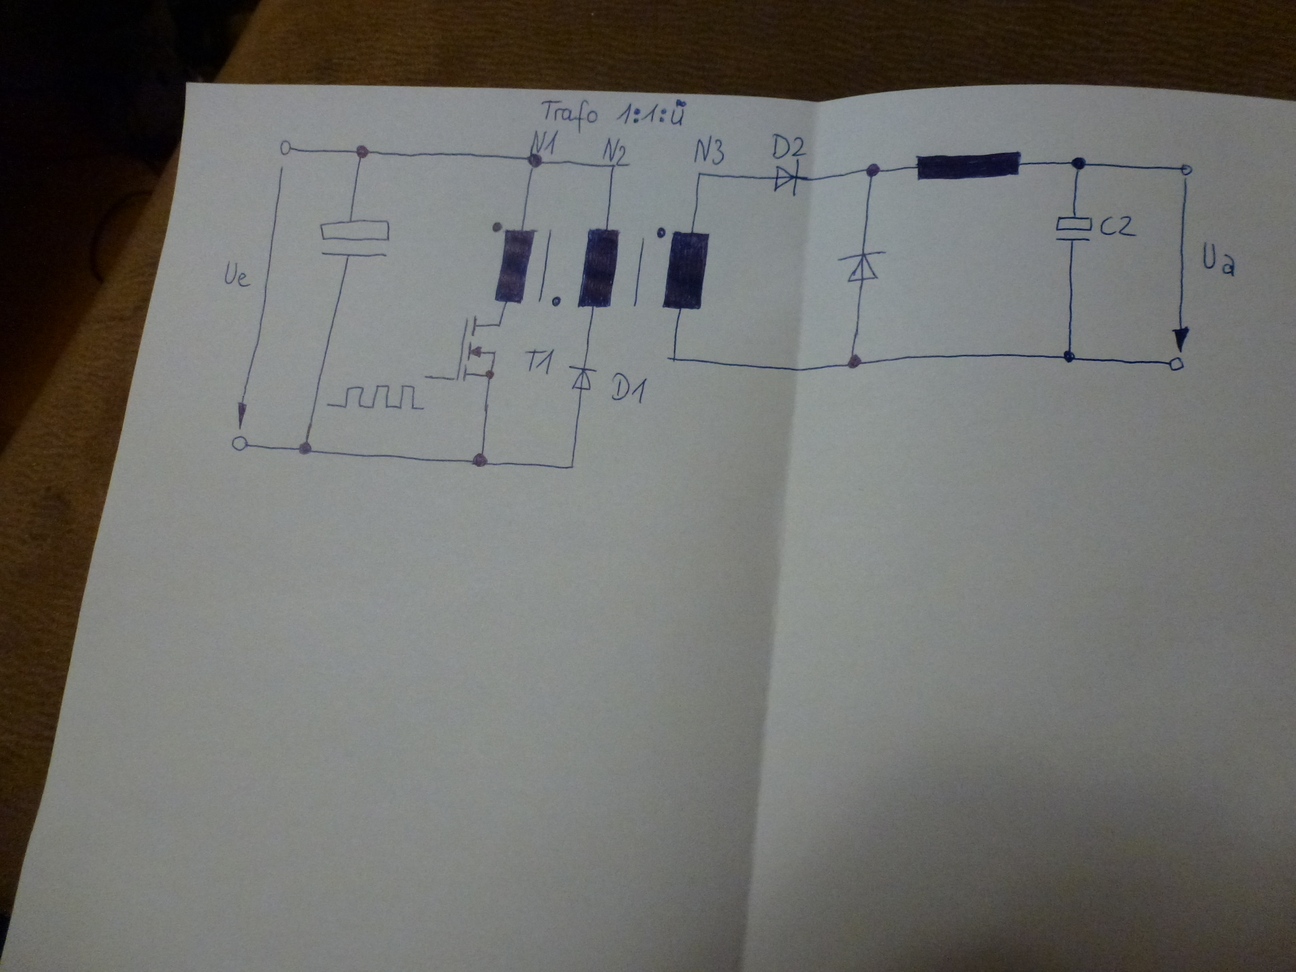capacitor.polarized: (315, 213, 394, 261), (1054, 212, 1095, 246)
diode: (832, 244, 886, 286), (769, 164, 799, 198), (566, 363, 597, 392)
inductor: (913, 145, 1026, 185)
junction: (861, 159, 883, 181), (1068, 152, 1089, 173), (844, 352, 865, 372), (524, 153, 546, 172), (352, 142, 372, 161), (1060, 346, 1079, 367), (296, 439, 314, 458), (470, 451, 491, 469), (665, 350, 679, 364), (693, 168, 705, 180), (608, 162, 622, 172), (565, 460, 577, 472)
terminal: (228, 432, 251, 455), (275, 137, 297, 158), (1165, 356, 1186, 374), (1176, 161, 1195, 178), (418, 371, 433, 385)
text: (538, 99, 696, 125), (1199, 238, 1242, 278), (608, 372, 650, 405), (691, 133, 726, 166), (522, 347, 558, 378), (770, 131, 806, 161), (1098, 213, 1136, 239), (601, 135, 629, 167), (221, 259, 250, 289), (529, 127, 554, 159)
transformer: (489, 215, 717, 319)
transistor: (447, 312, 507, 386)
